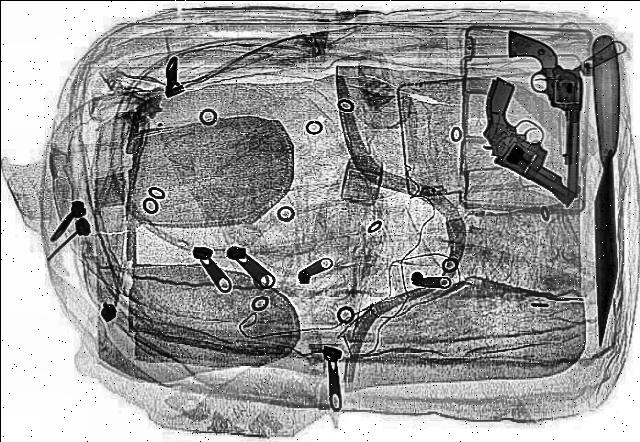Gun: (424, 76, 638, 206), (502, 31, 582, 199)
Knife: (586, 37, 618, 346)
